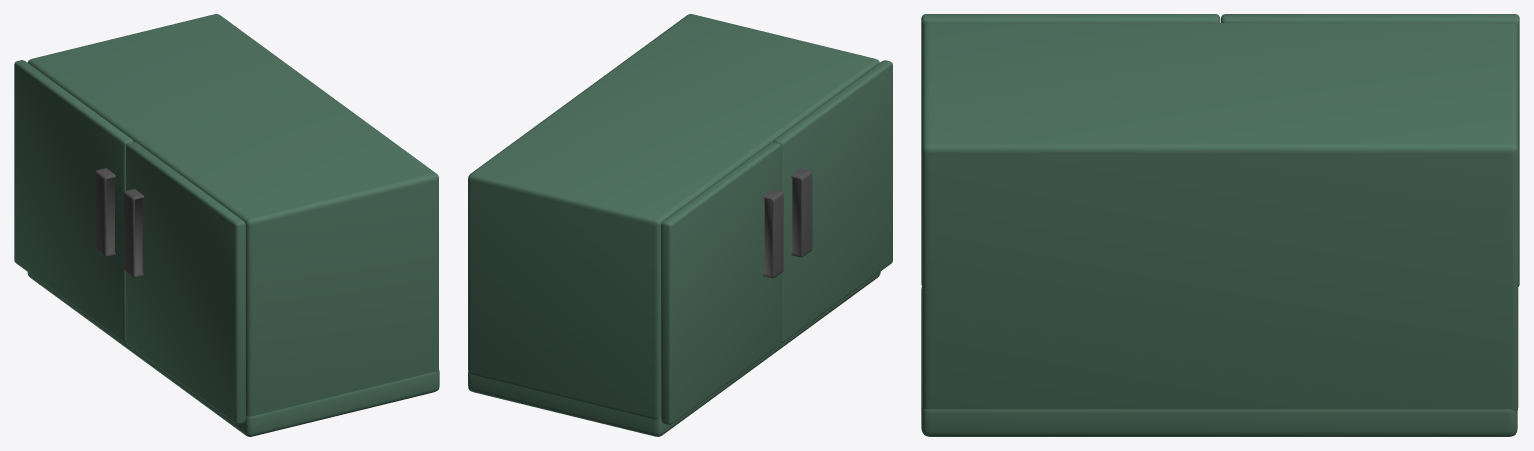
The model's file is green cabinet for real.fbx.
3 views of the same model, side by side, from view 1: azimuth 30°, elevation 25°; view 2: azimuth 150°, elevation 25°; view 3: azimuth 270°, elevation 25° (orthographic). The views are drawn at different scales.
Visible parts, largest first — view 1: dOOR001_dOOR002; view 2: dOOR001_dOOR002; view 3: dOOR001_dOOR002.
Part boxes in pixels (x1,y1,x2,y2): dOOR001_dOOR002: [14, 14, 439, 436]; dOOR001_dOOR002: [468, 14, 892, 436]; dOOR001_dOOR002: [921, 14, 1519, 436].
Size of the model in its own units: 1.87 by 1.81 by 3.35.
